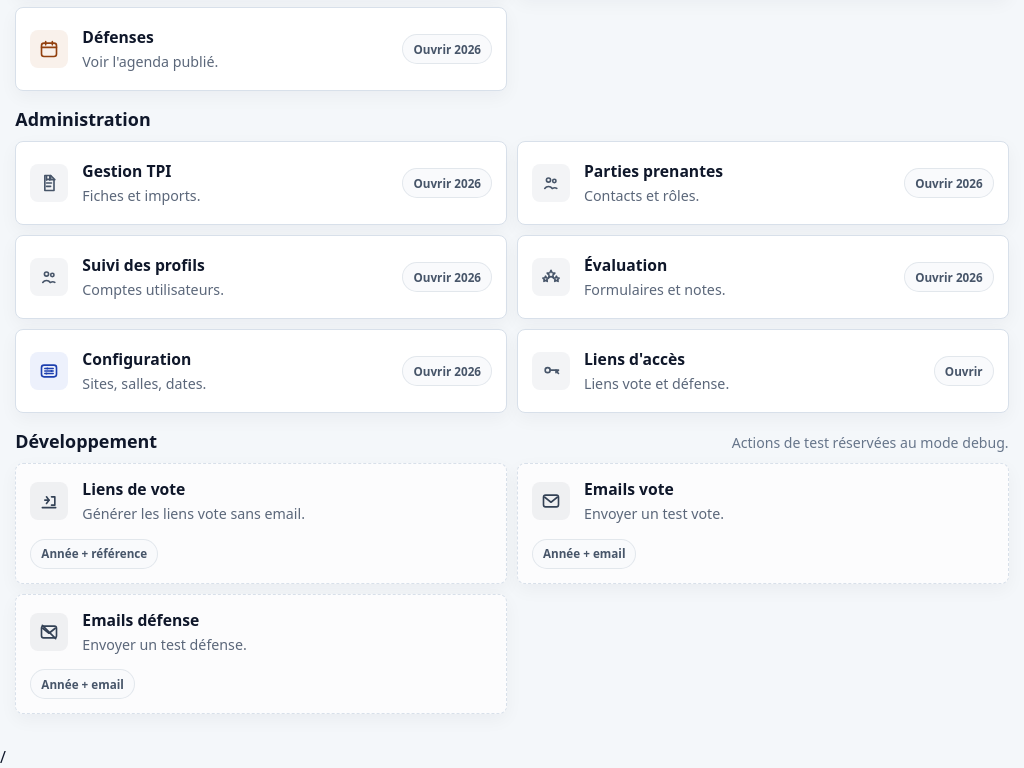
Scenario: Home › ouvre le mode test vote depuis l accueil debug
(page scrolled)
Click the button "Emails vote Envoyer un test vote. Année + email": (551, 501) [517, 463, 1009, 584]
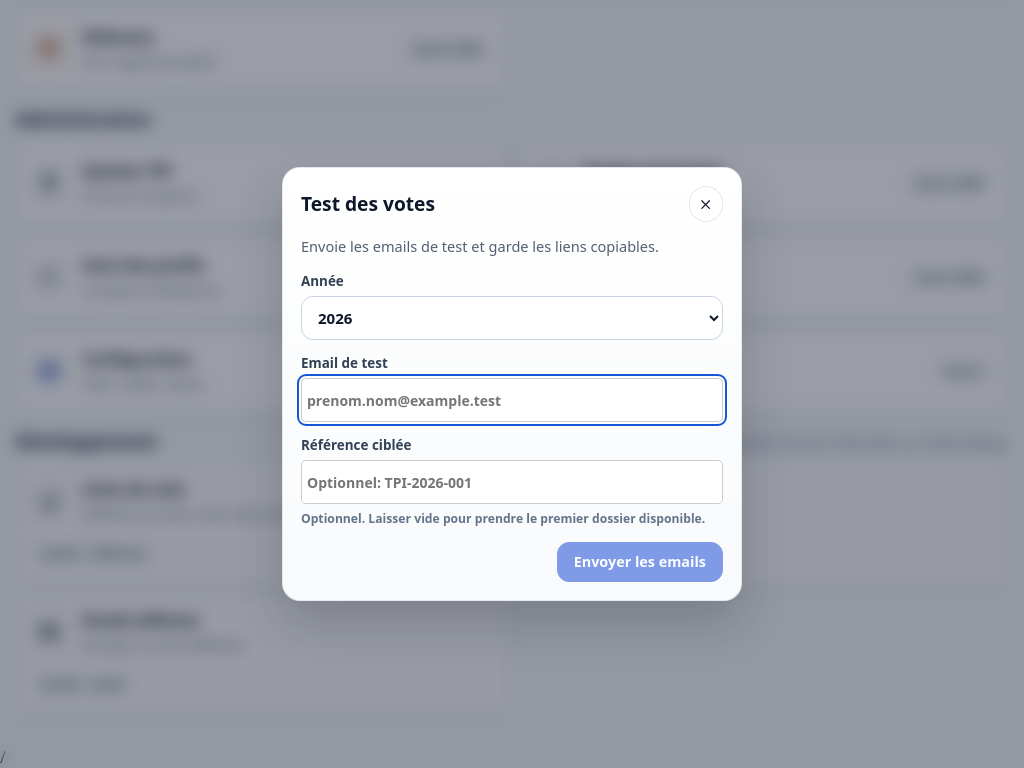
Expected: the dialog "Test des votes" is shown, [282, 167, 742, 601]
